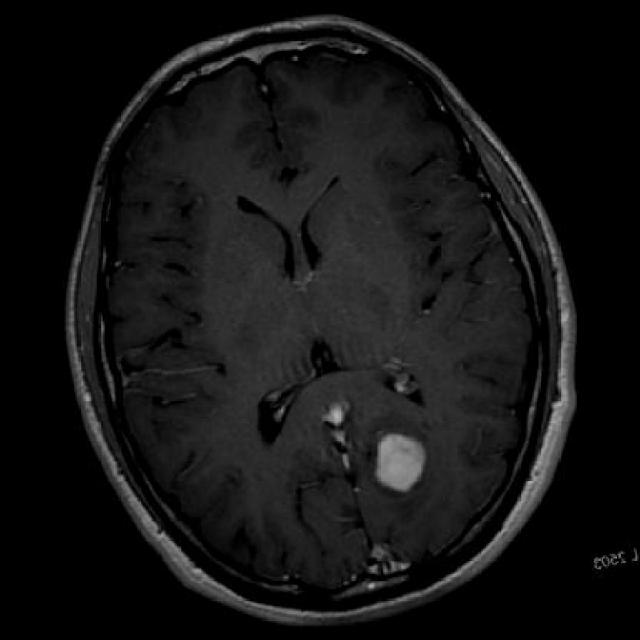Brain-Tumor: (360, 416, 444, 508)
